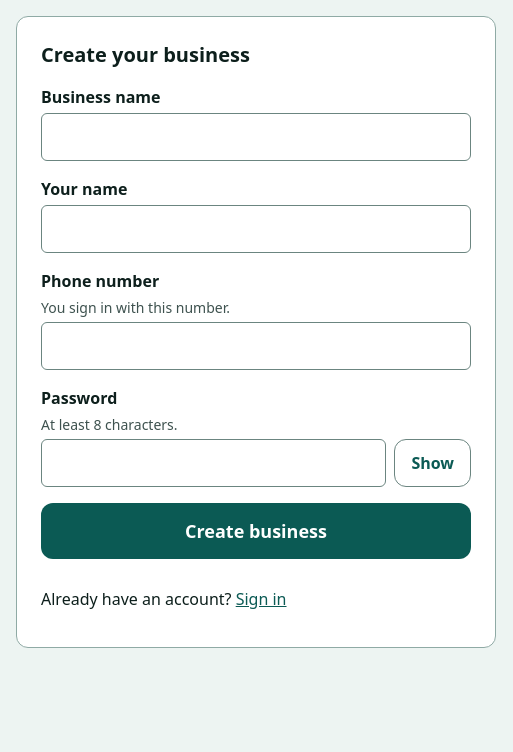
Test: SignUpPage (M1, US1.1) › checks each field when the person leaves it, with the messages from the form rules
Check: the heading "Create your business" is shown, box [41,41,250,68]
Click the field labelled "Business name": (256, 137) [41,113,471,161]
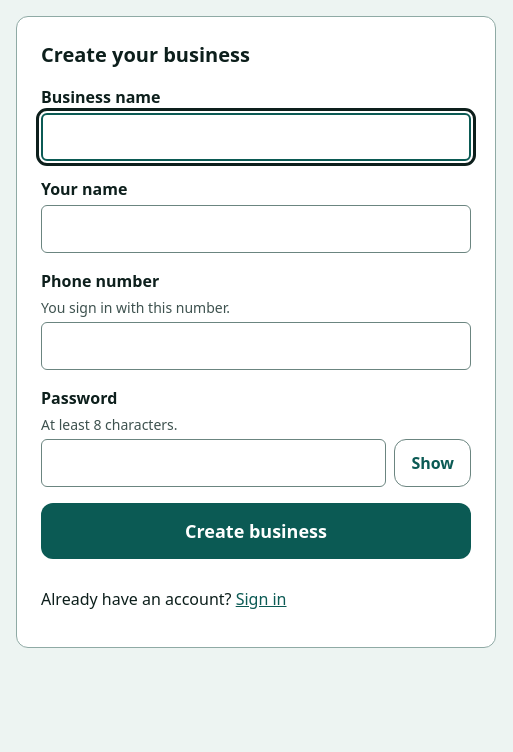
Click the field labelled "Your name": (256, 229) [41,205,471,253]
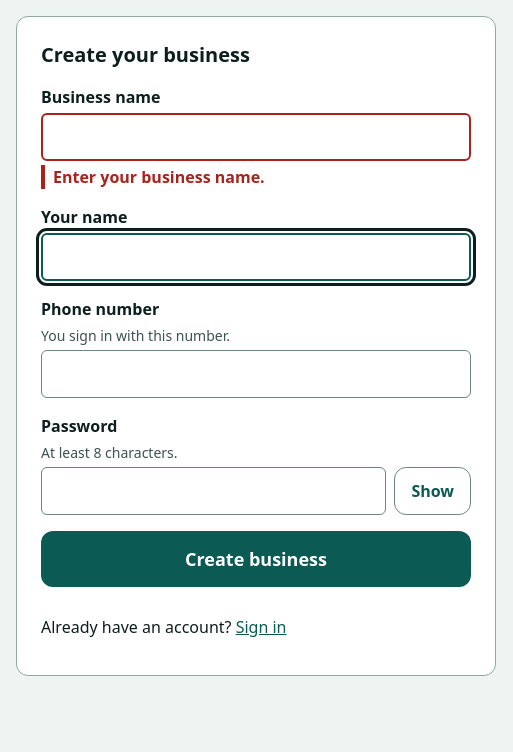
In the field labelled "Phone number": (256, 374) [41,350,471,398], type "12-34"
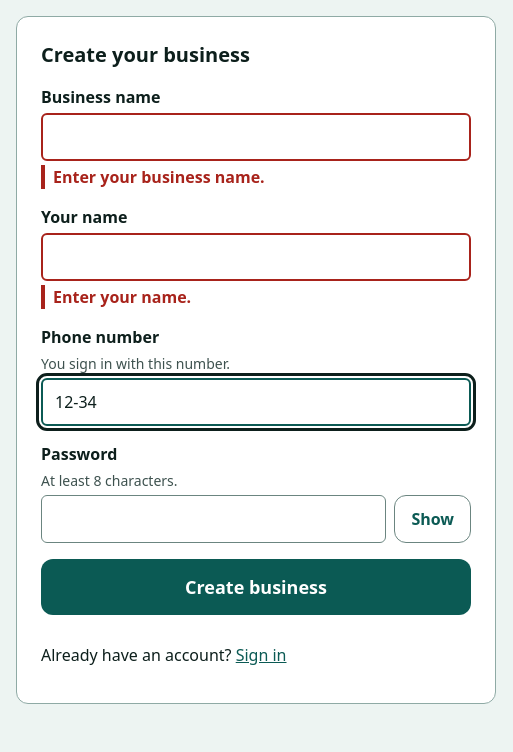
In the password field with test id "signup-password-input": (214, 519) [41,495,386,543], type "short"
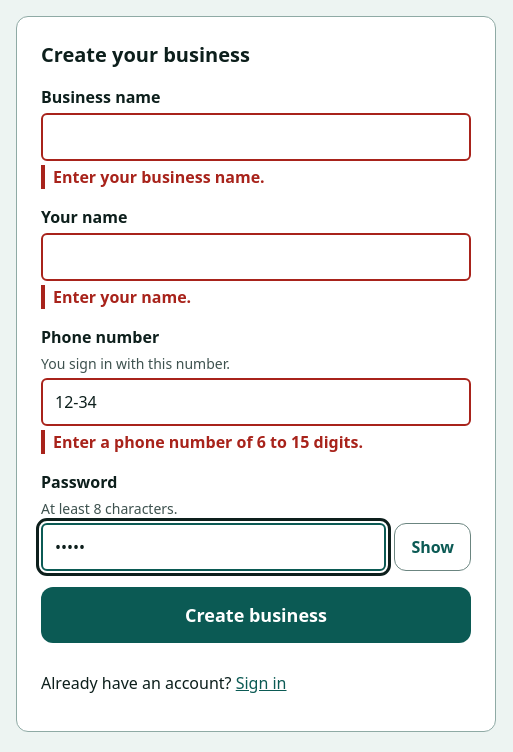
Press Tab
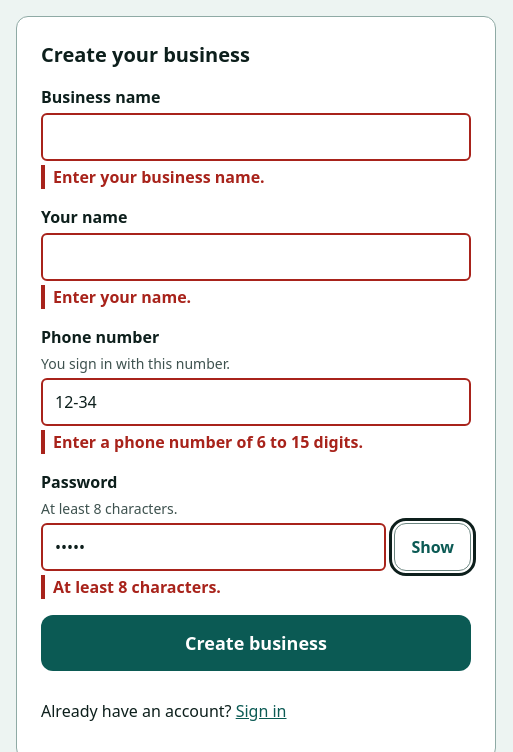
Check: the text "Enter your business name." is shown, box [41,165,471,189]
Check: the text "Enter a phone number of 6 to 15 digits." is shown, box [41,430,471,454]
Check: the text with id "signup-password-error" reads "At least 8 characters.", box [53,576,221,598]
